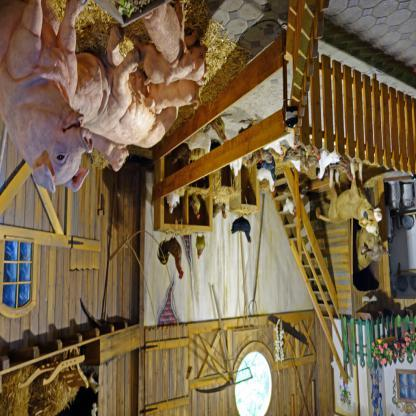boar: (0, 1, 211, 193)
